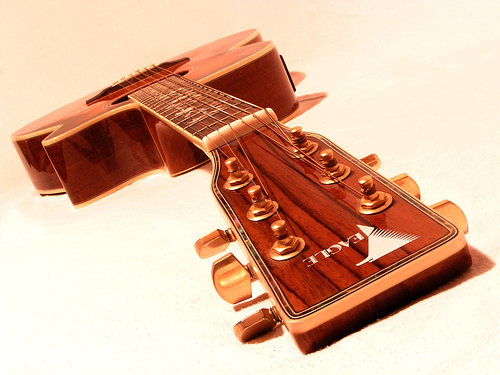guitar: (8, 24, 482, 360)
